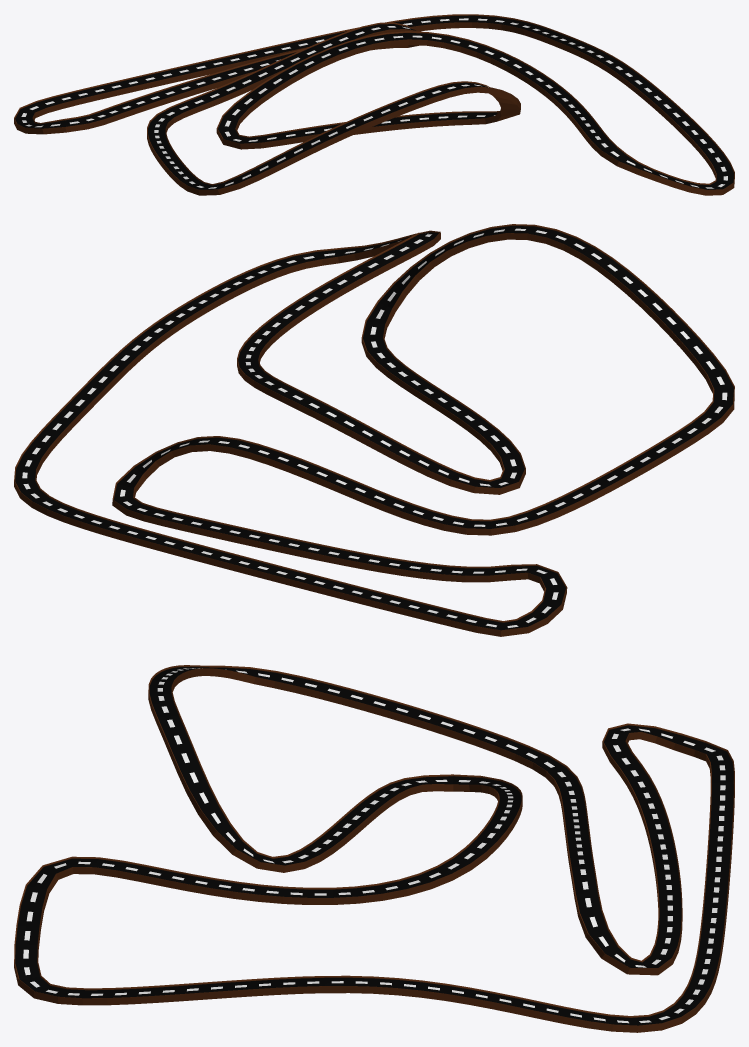
The model's file is ONLY ROAD2.fbx.
The picture shows the model from 3 angles, top to bottom: view 1: azimuth 30°, elevation 25°; view 2: azimuth 150°, elevation 25°; view 3: azimuth 270°, elevation 25°; orthographic projection. The views are drawn at different scales.
Visible parts, largest first — view 1: ONLY ROAD2; view 2: ONLY ROAD2; view 3: ONLY ROAD2.
Boxes of the visible parts, box(x1,y1,x2,y2) form: ONLY ROAD2: box(14, 14, 734, 195); ONLY ROAD2: box(14, 224, 734, 636); ONLY ROAD2: box(14, 665, 734, 1032).
Bounding box in the file's own units: 366 × 101 × 373.
